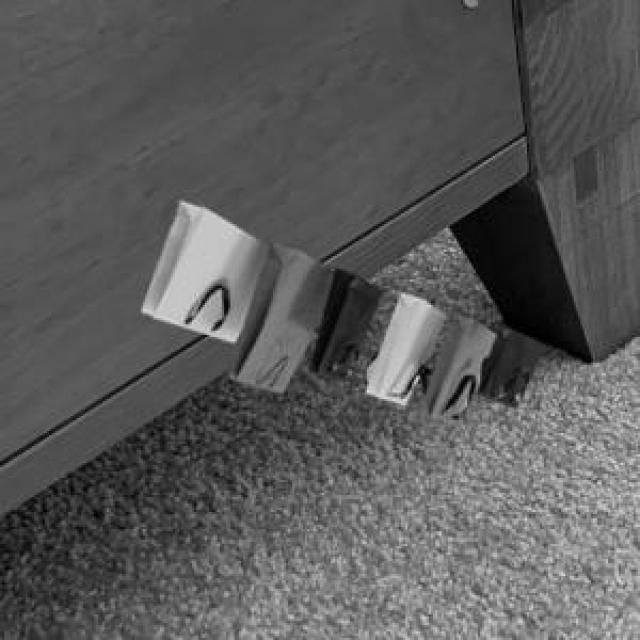paper: (137, 198, 540, 420)
